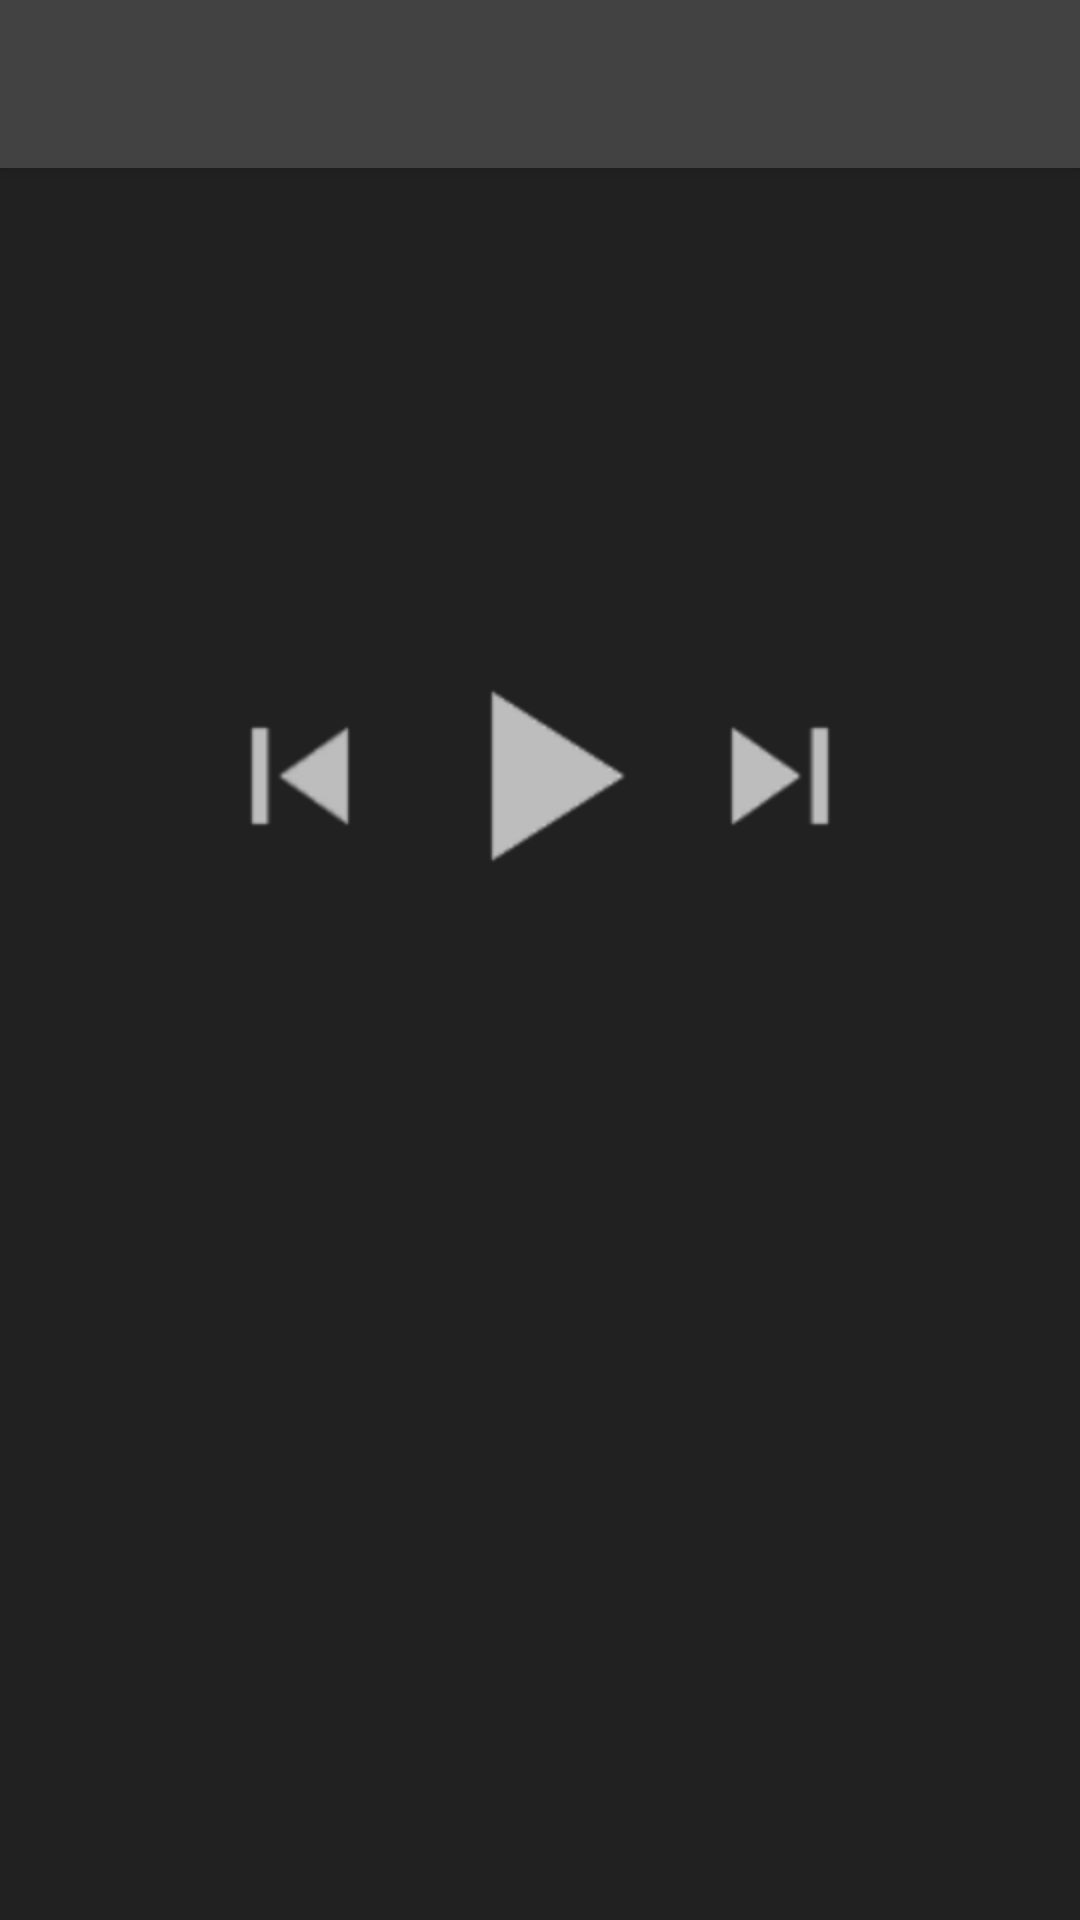

Icons on this 1080*1920 Android screen, each with the point to tap as (x,y):
next: (780,776)
play: (557,776)
previous: (300,776)
